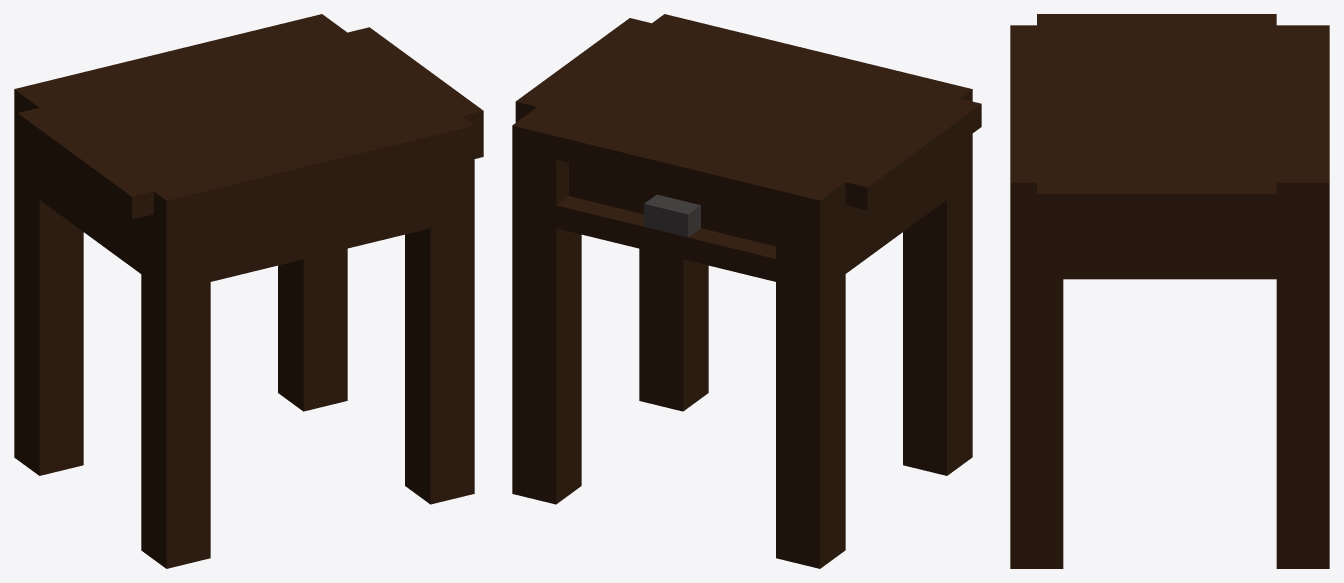
Rendered from Stolik.obj.
3 renders of one model, left to right at view 1: azimuth 30°, elevation 25°; view 2: azimuth 150°, elevation 25°; view 3: azimuth 270°, elevation 25°, orthographic. The views are drawn at different scales.
Parts seen in each view (by area): view 1: Stolik; view 2: Stolik; view 3: Stolik.
Part boxes in pixels (<box>): Stolik: <box>14,14,483,568</box>; Stolik: <box>512,14,981,568</box>; Stolik: <box>1010,14,1329,568</box>.
Bounding box in the file's own units: 1.6 × 1.6 × 1.2.
1 material, 1 textured.
